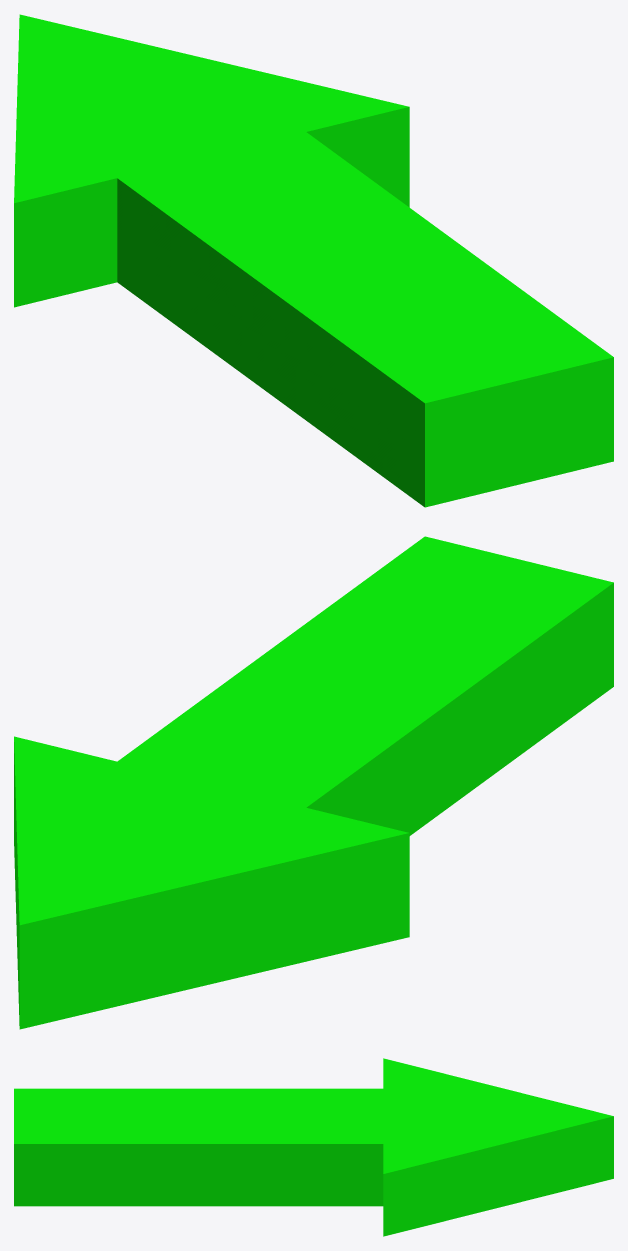
The model's file is PlayerStart.dae.
3 renders of one model, top to bottom at view 1: azimuth 30°, elevation 25°; view 2: azimuth 150°, elevation 25°; view 3: azimuth 270°, elevation 25°, orthographic. The views are drawn at different scales.
Parts seen in each view (by area): view 1: group_0; view 2: group_0; view 3: group_0.
Part boxes in pixels (bbox=[...]): group_0: bbox=[14, 14, 613, 507]; group_0: bbox=[14, 536, 613, 1029]; group_0: bbox=[14, 1058, 613, 1236].
Size of the model in its own units: 26.81 by 58.69 by 6.75.
